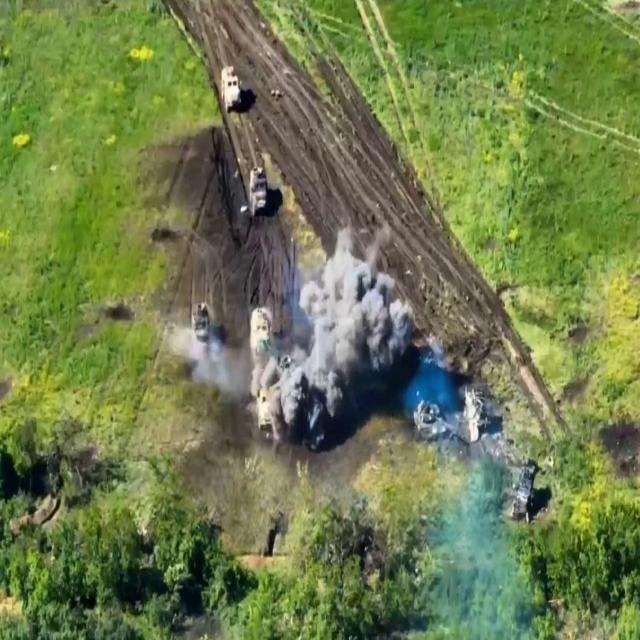Destroyed: (466, 388, 492, 446)
MBT: (414, 398, 457, 444)
Vehicle: (514, 465, 539, 524), (250, 307, 275, 365), (219, 65, 245, 115), (248, 168, 272, 220), (191, 305, 213, 357), (259, 390, 273, 436)
